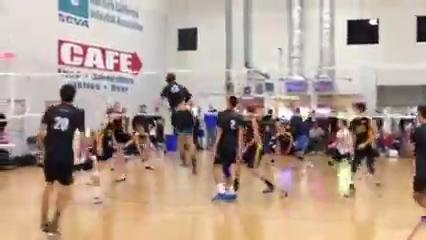attacco: (151, 67, 202, 175)
